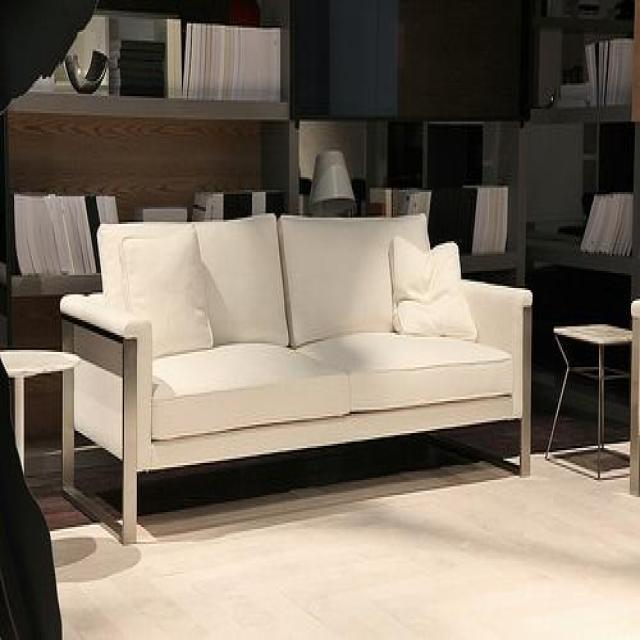sofa: (59, 209, 532, 544)
